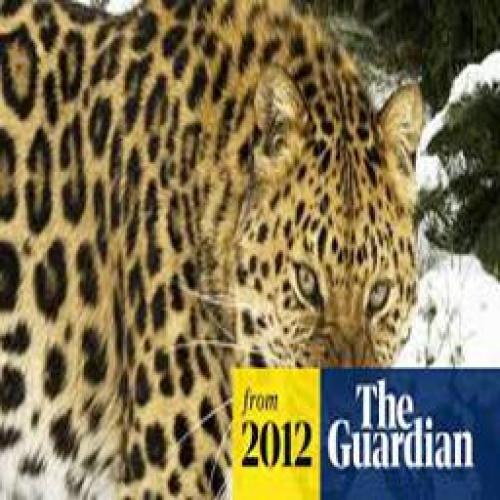amur_leopard-endangered: (0, 14, 431, 500)
